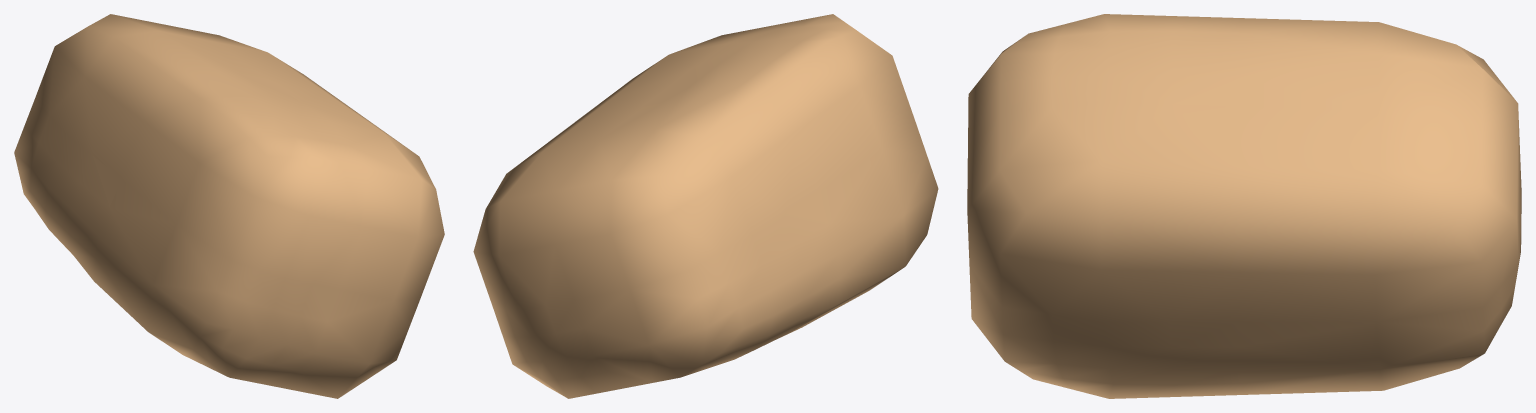
Rendered from pinky_01_l.dae.
3 renders of one model, left to right at view 1: azimuth 30°, elevation 25°; view 2: azimuth 150°, elevation 25°; view 3: azimuth 270°, elevation 25°, orthographic. The views are drawn at different scales.
Visible parts, largest first — view 1: skin_geo_pinky_01_r; view 2: skin_geo_pinky_01_r; view 3: skin_geo_pinky_01_r.
Part boxes in pixels (left/top/right/bottom): skin_geo_pinky_01_r: left=14, top=14, right=444, bottom=398; skin_geo_pinky_01_r: left=473, top=14, right=938, bottom=398; skin_geo_pinky_01_r: left=967, top=14, right=1521, bottom=398.
Bounding box in the file's own units: 0.0221 × 0.0339 × 0.0218.
